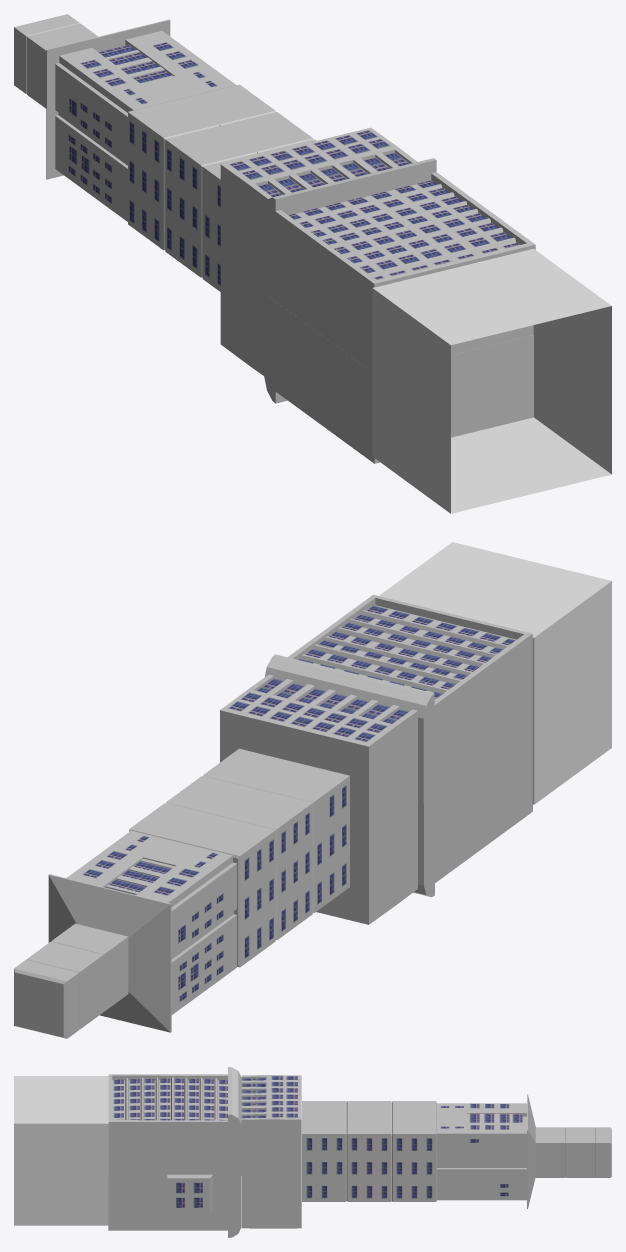
Rendered from block_skyscraper_01.FBX.
3 views of the same model, one above another, from view 1: azimuth 30°, elevation 25°; view 2: azimuth 150°, elevation 25°; view 3: azimuth 270°, elevation 25° (orthographic). The views are drawn at different scales.
Parts seen in each view (by area): view 1: Plane002, building_8s_006, building_6s_010, building_8s_007, building_apartment_9s005, Box1050, building_apartment_9s004, Box1051, building_5s_003; view 2: building_8s_006, Plane002, building_6s_010, building_apartment_9s005, Box1050, building_8s_007, building_5s_003, Box1051, building_apartment_9s004; view 3: Plane002, building_8s_006, building_apartment_9s004, building_6s_010, Box1050, building_8s_007, building_5s_003, Box1051, building_apartment_9s005, Box1049.
Boxes of the visible parts, x1,y1,x2,y2 form: Plane002: [372, 248, 611, 513]; building_8s_006: [264, 158, 535, 371]; building_6s_010: [46, 19, 236, 221]; building_8s_007: [264, 293, 533, 463]; building_apartment_9s005: [128, 98, 260, 291]; Box1050: [220, 127, 417, 285]; building_apartment_9s004: [184, 84, 316, 154]; Box1051: [220, 254, 264, 375]; building_5s_003: [14, 14, 98, 108]; building_8s_006: [265, 594, 532, 802]; Plane002: [379, 542, 611, 804]; building_6s_010: [48, 830, 236, 1032]; building_apartment_9s005: [184, 762, 349, 967]; Box1050: [220, 674, 417, 835]; building_8s_007: [413, 723, 532, 897]; building_5s_003: [14, 923, 128, 1038]; Box1051: [316, 800, 417, 924]; building_apartment_9s004: [129, 748, 294, 843]; Plane002: [14, 1076, 108, 1225]; building_8s_006: [108, 1067, 241, 1176]; building_apartment_9s004: [302, 1117, 436, 1201]; building_6s_010: [437, 1094, 535, 1208]; Box1050: [241, 1075, 301, 1173]; building_8s_007: [108, 1176, 241, 1237]; building_5s_003: [535, 1127, 611, 1177]; Box1051: [241, 1174, 301, 1228]; building_apartment_9s005: [302, 1101, 436, 1118]; Box1049: [167, 1174, 213, 1212].
Size of the model in its own units: 32.64 by 36.34 by 160.
